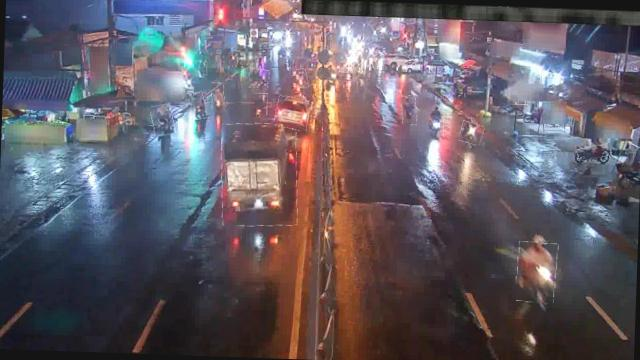Bike: (516, 242, 558, 303), (151, 104, 175, 137), (576, 144, 612, 161), (459, 122, 484, 145), (422, 112, 443, 138), (188, 92, 206, 120), (401, 96, 416, 126), (248, 69, 269, 89), (211, 83, 225, 110), (252, 92, 268, 115), (498, 103, 528, 114), (295, 70, 308, 90)
Car: (274, 96, 310, 130)
Truck: (218, 122, 300, 228)
